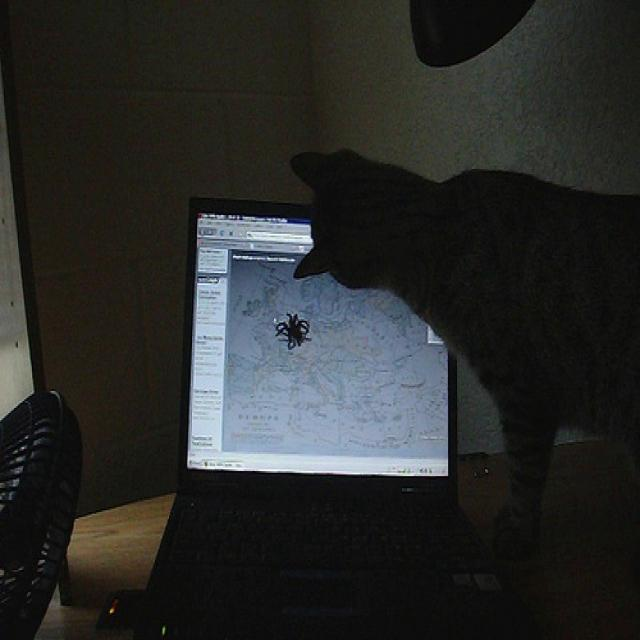Cat: (299, 131, 640, 535)
Table: (0, 435, 640, 640)
